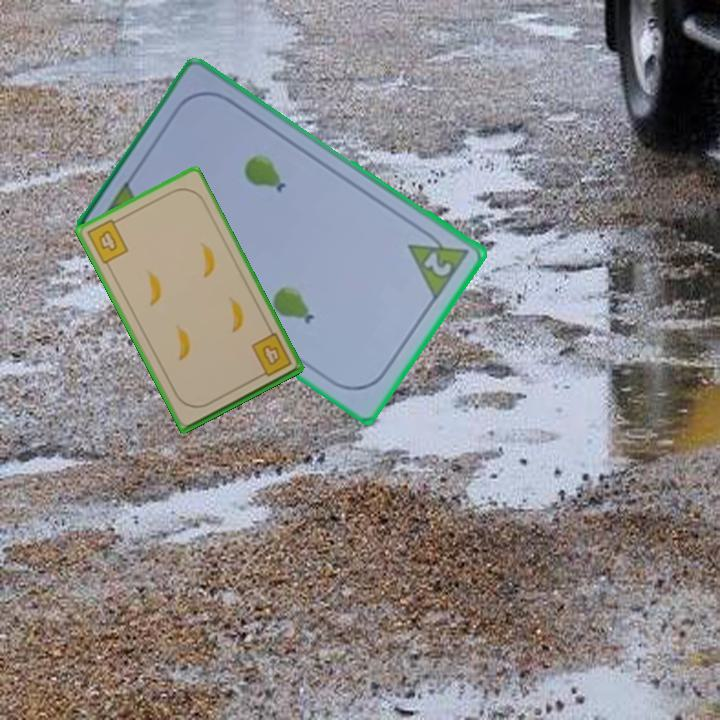2p: (405, 224, 473, 303)
4b: (83, 214, 131, 267), (247, 329, 294, 382)
